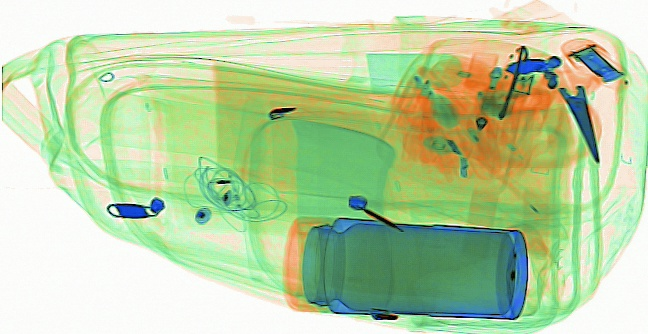scissors: (519, 39, 603, 164)
